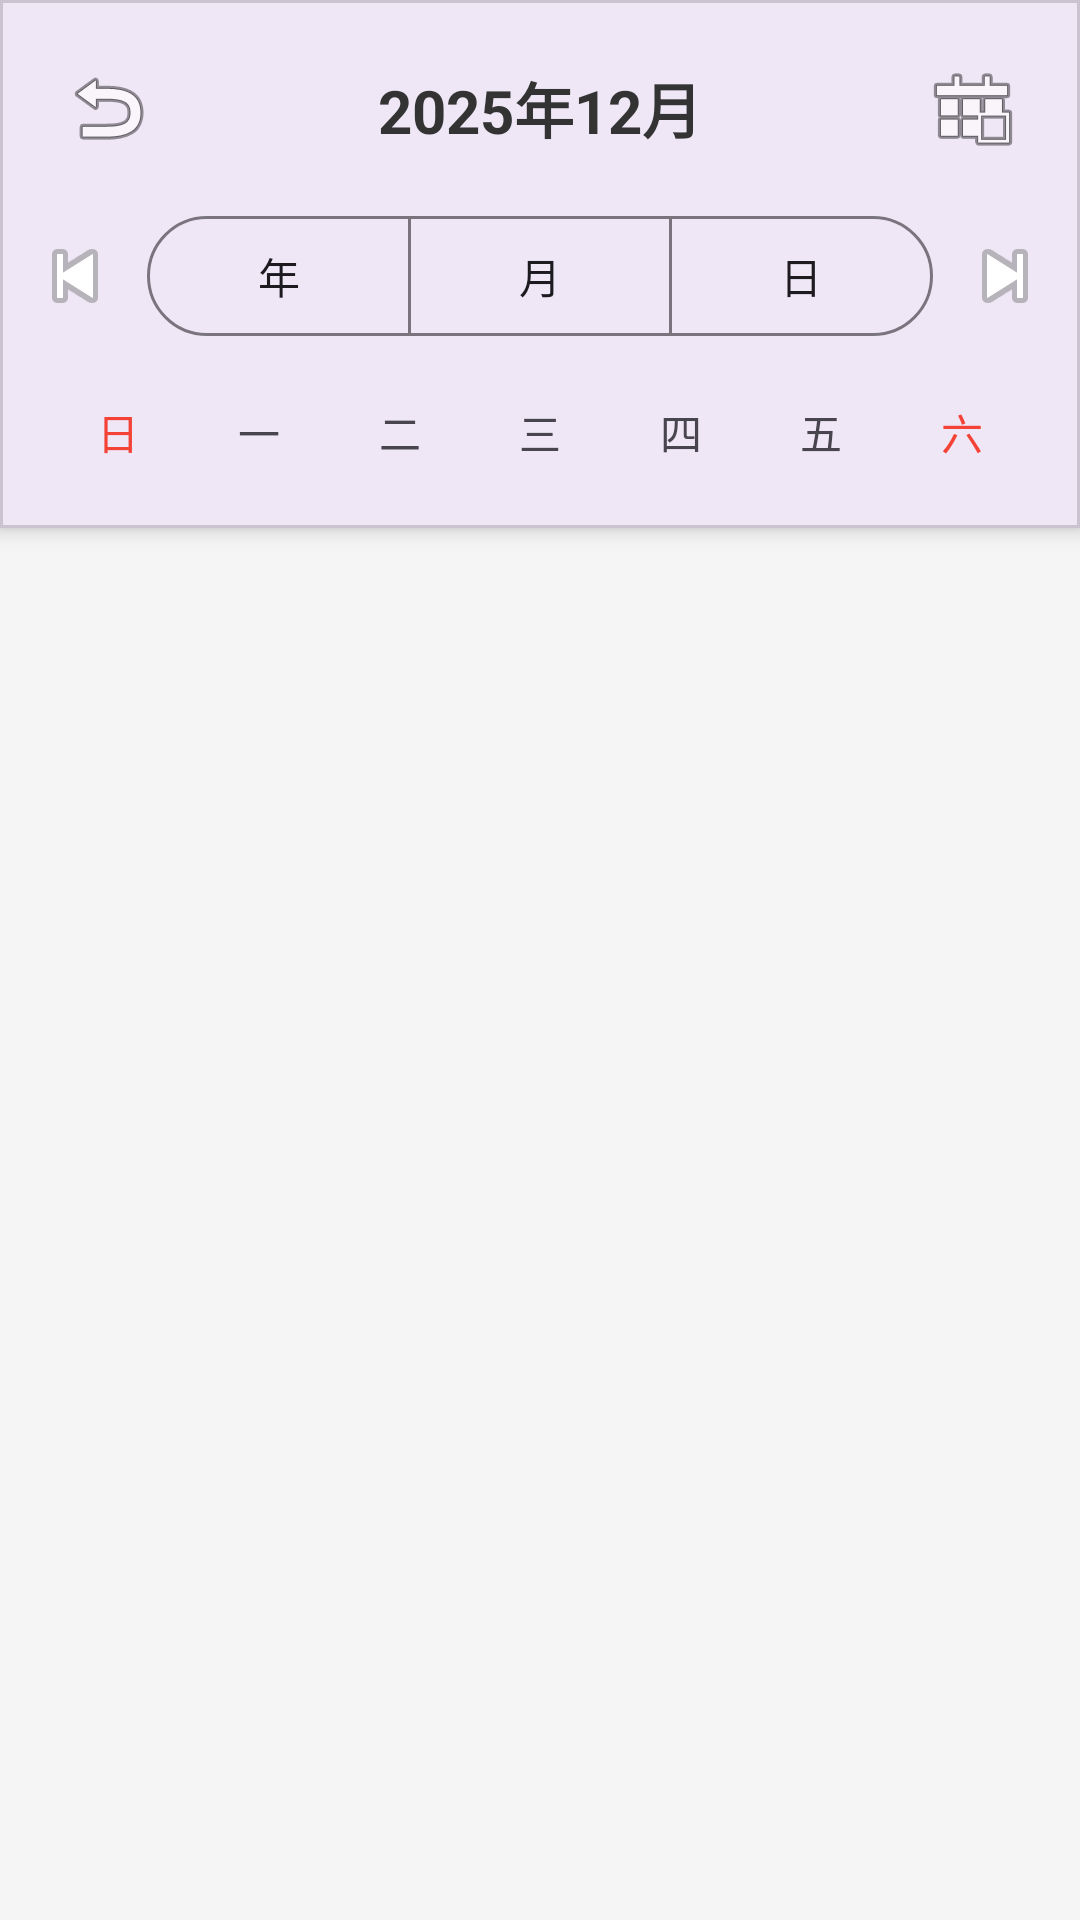

Screen size 1080*1920. Icon name, then its box in pixels as bbox=[x1, y1, x2, y2]:
今天: bbox=[933, 73, 1013, 146]
返回: bbox=[75, 77, 144, 140]
